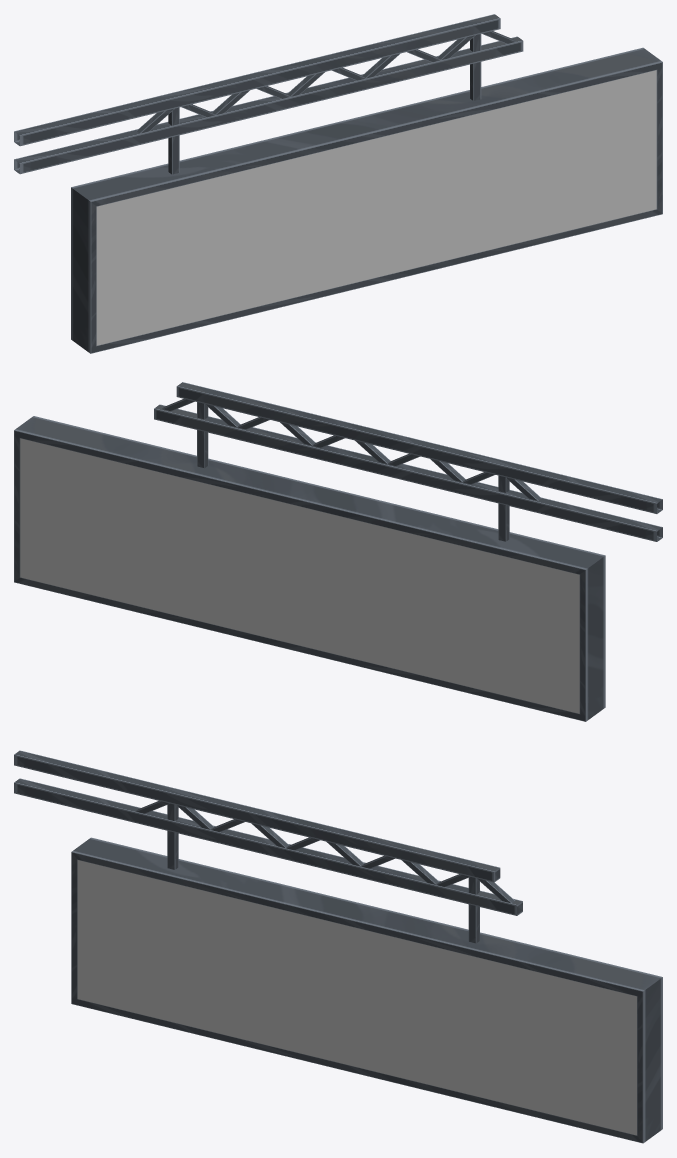
Rendered from jiedao_BJ_026.fbx.
3 views of the same model, one above another, from view 1: azimuth 30°, elevation 25°; view 2: azimuth 150°, elevation 25°; view 3: azimuth 330°, elevation 25° (orthographic).
Visible parts, largest first — view 1: BJ026; view 2: BJ026; view 3: BJ026.
Part boxes in pixels (<box>): BJ026: <box>14,14,662,353</box>; BJ026: <box>14,382,662,721</box>; BJ026: <box>14,750,662,1143</box>.
Bounding box in the file's own units: 390 × 20.93 × 134.
